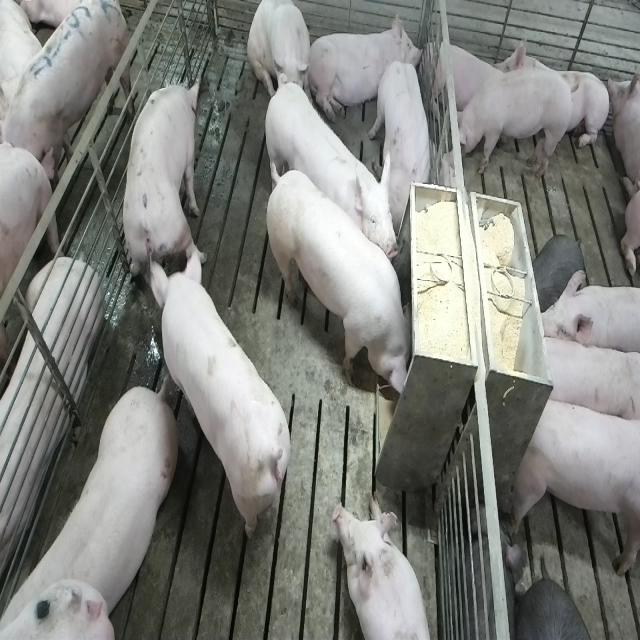Feeding: (270, 165, 421, 399)
Sitting: (248, 1, 312, 109)
Standing: (6, 377, 183, 633), (152, 252, 296, 552), (260, 79, 398, 269), (0, 0, 132, 198), (508, 391, 638, 582), (121, 76, 205, 295), (449, 70, 576, 177), (535, 332, 637, 429), (373, 60, 429, 222), (535, 270, 636, 356), (515, 576, 595, 638)
Sternal_lying: (0, 225, 100, 580), (334, 498, 436, 640), (497, 30, 609, 156), (309, 11, 422, 123), (428, 34, 502, 120)
